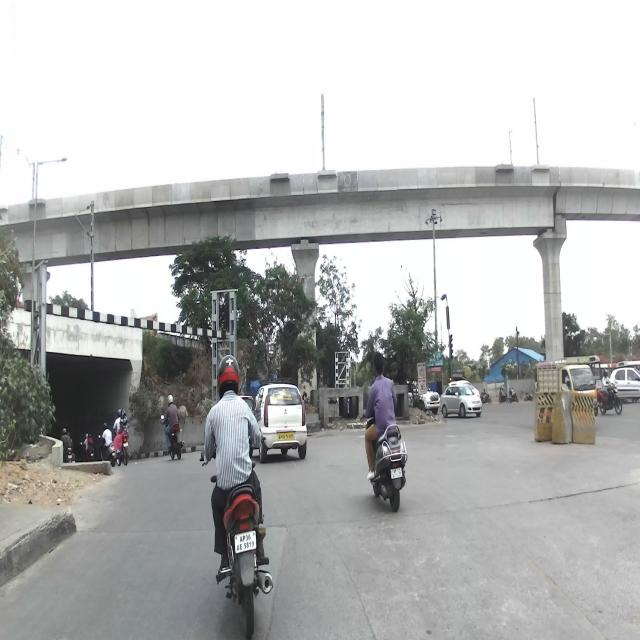car: (249, 383, 307, 463), (440, 384, 482, 417)
motorcycle: (200, 429, 273, 639), (597, 384, 623, 416), (112, 428, 128, 465)
scooter: (359, 404, 407, 507)
truck: (534, 356, 598, 419)
